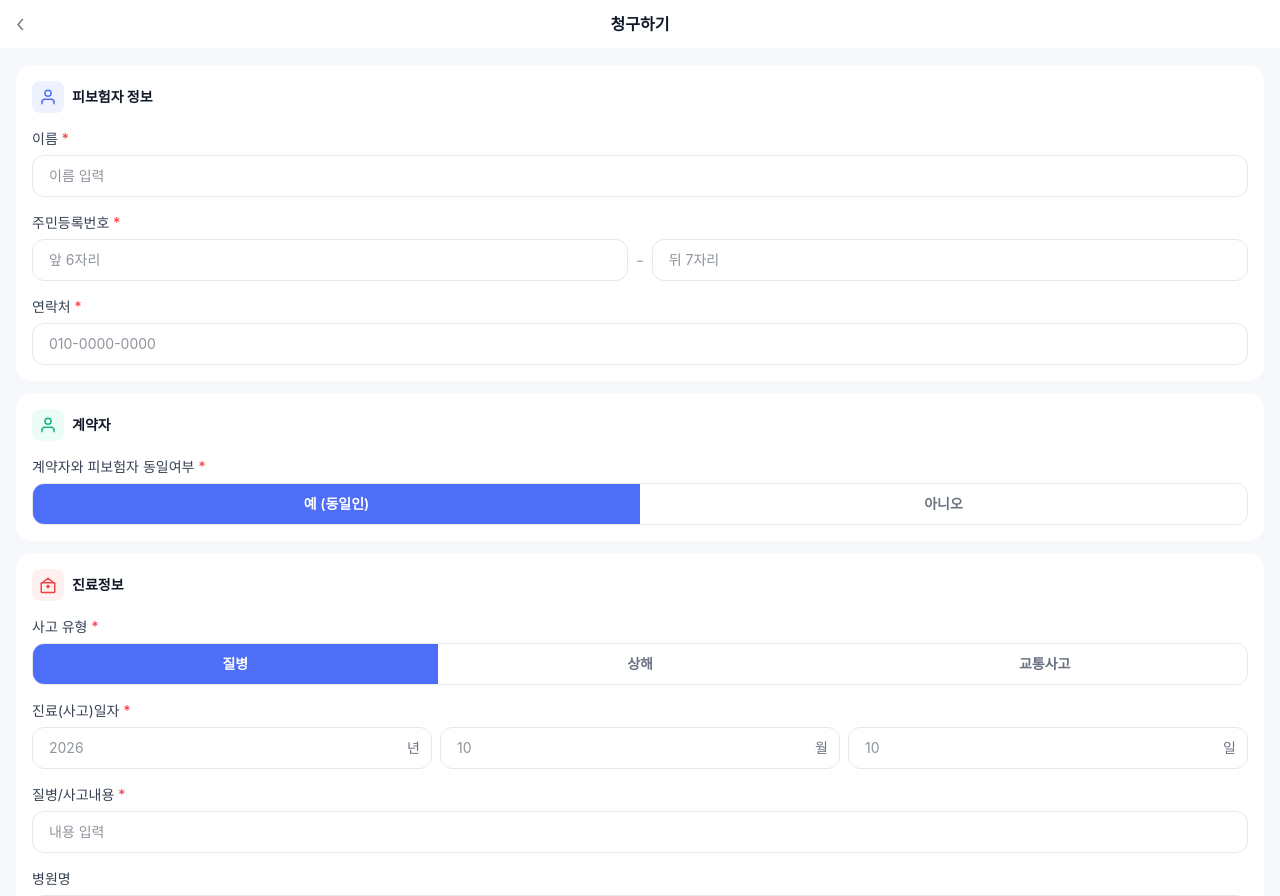
Test: ClaimNew (청구하기 폼) › 실패 케이스 › 전화번호에 숫자가 아닌 문자가 입력되면 제거된다
In the field with placeholder "010-0000-0000": (640, 344) [32,323,1248,365], type "010abc1234"
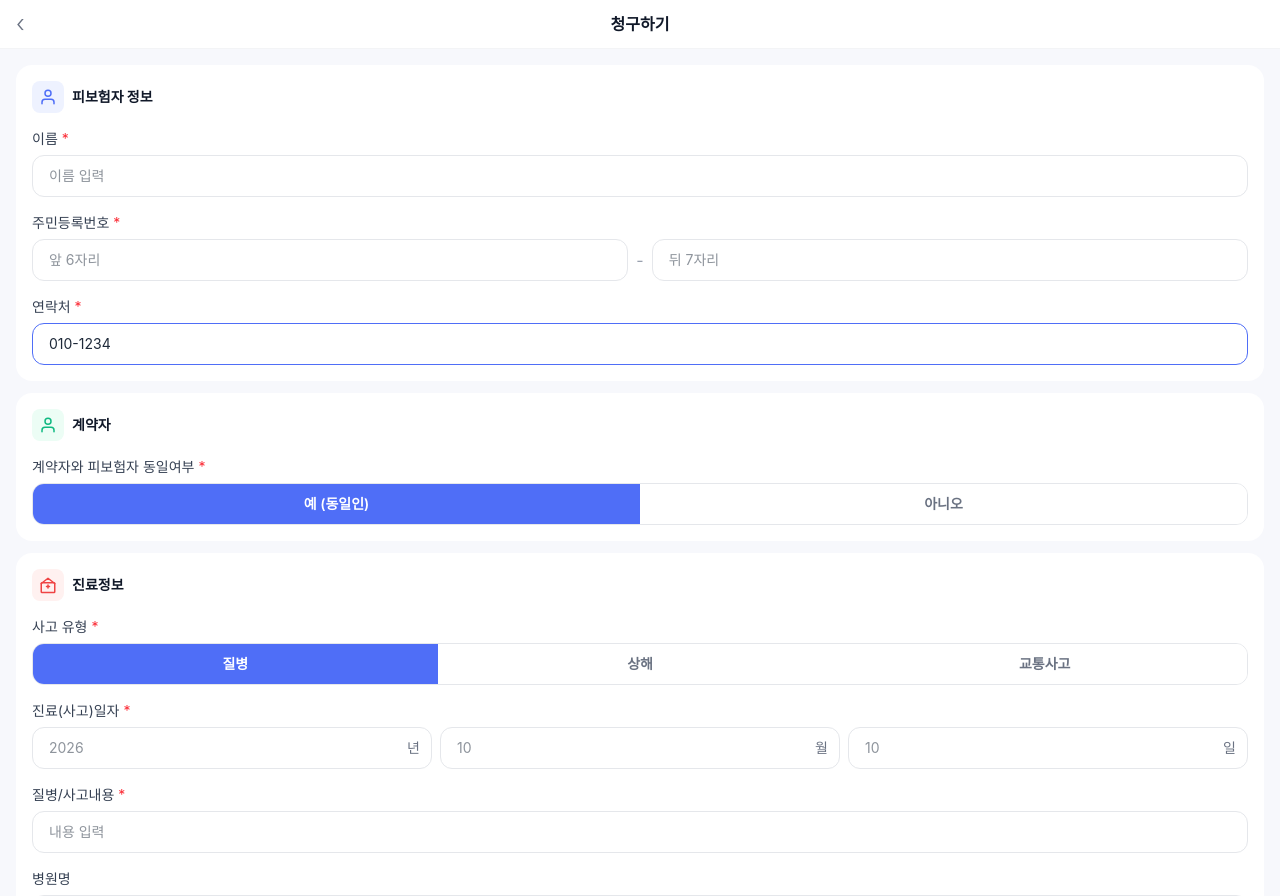
Now the field with placeholder "010-0000-0000" holds "010-1234", box [32,323,1248,365]
